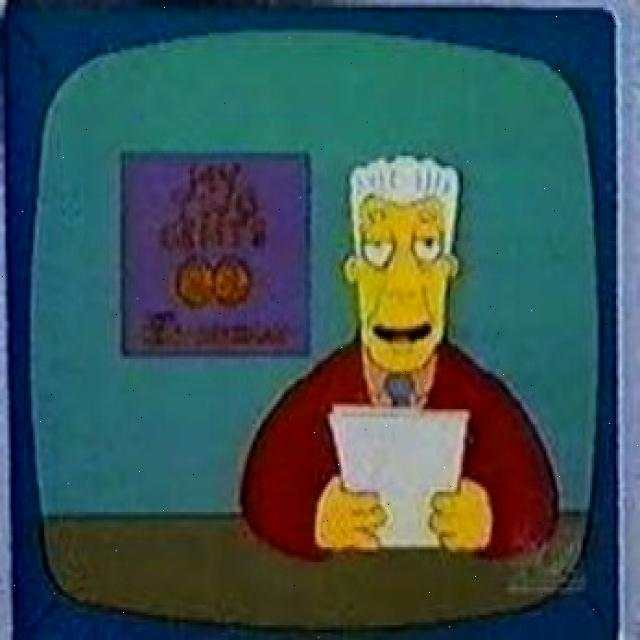Kent Brockman: (340, 153, 460, 374)
